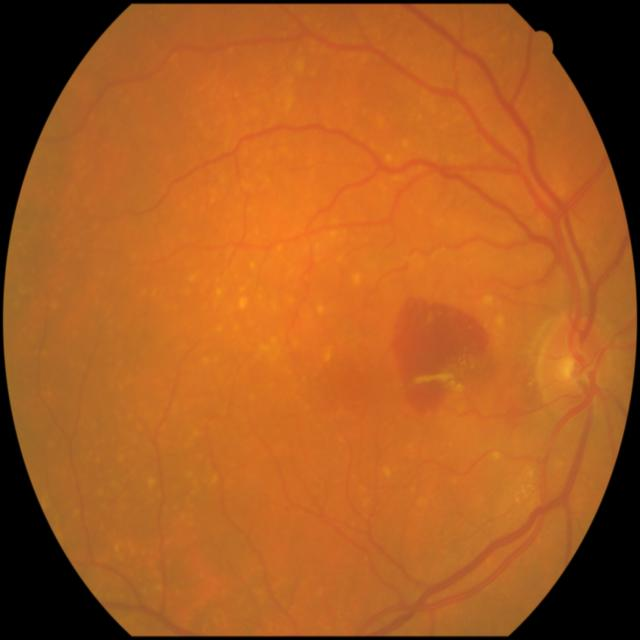OC: (557, 354, 581, 384)
OD: (536, 318, 612, 421)
